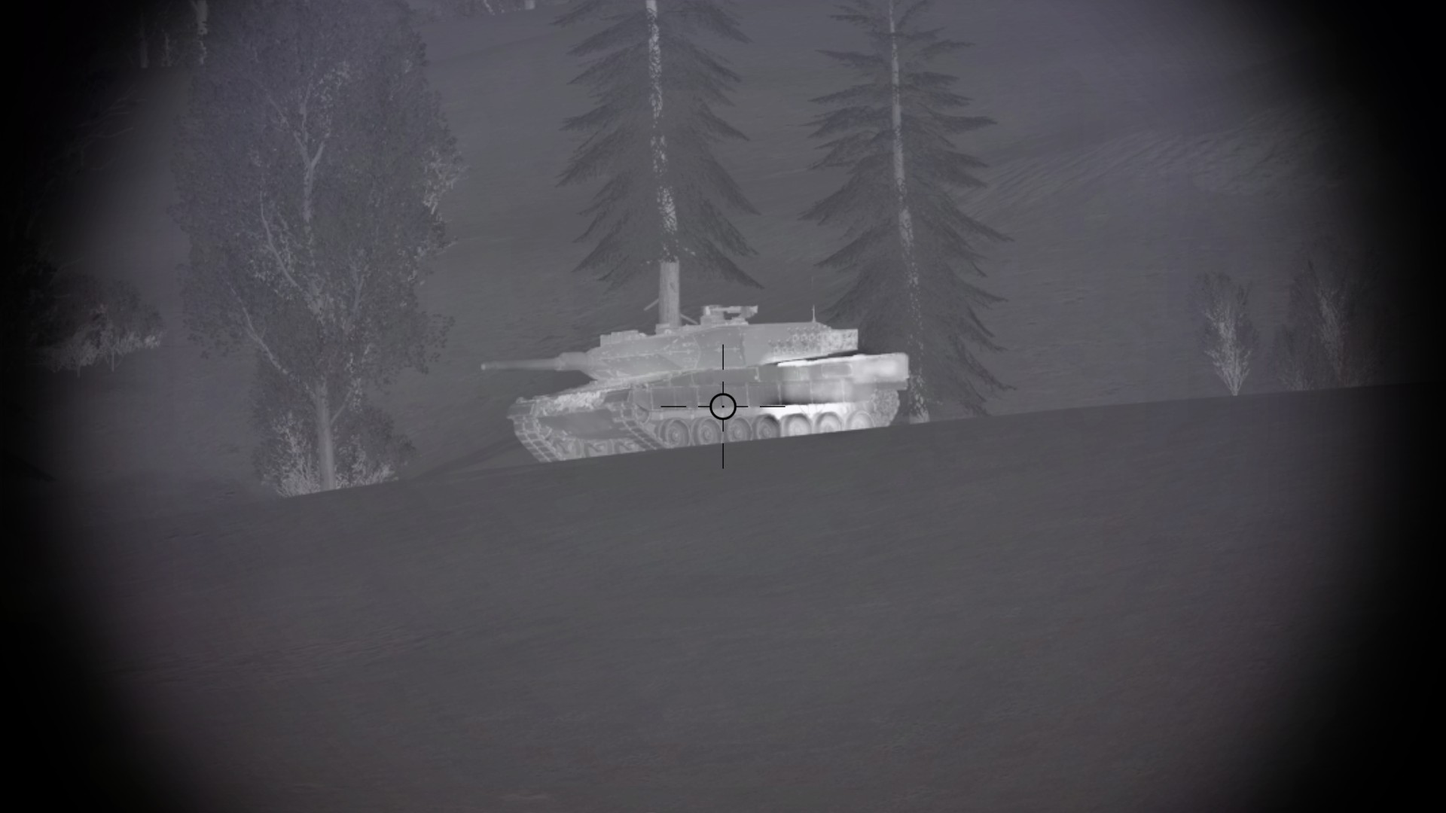leopard2: (479, 304, 910, 464)
